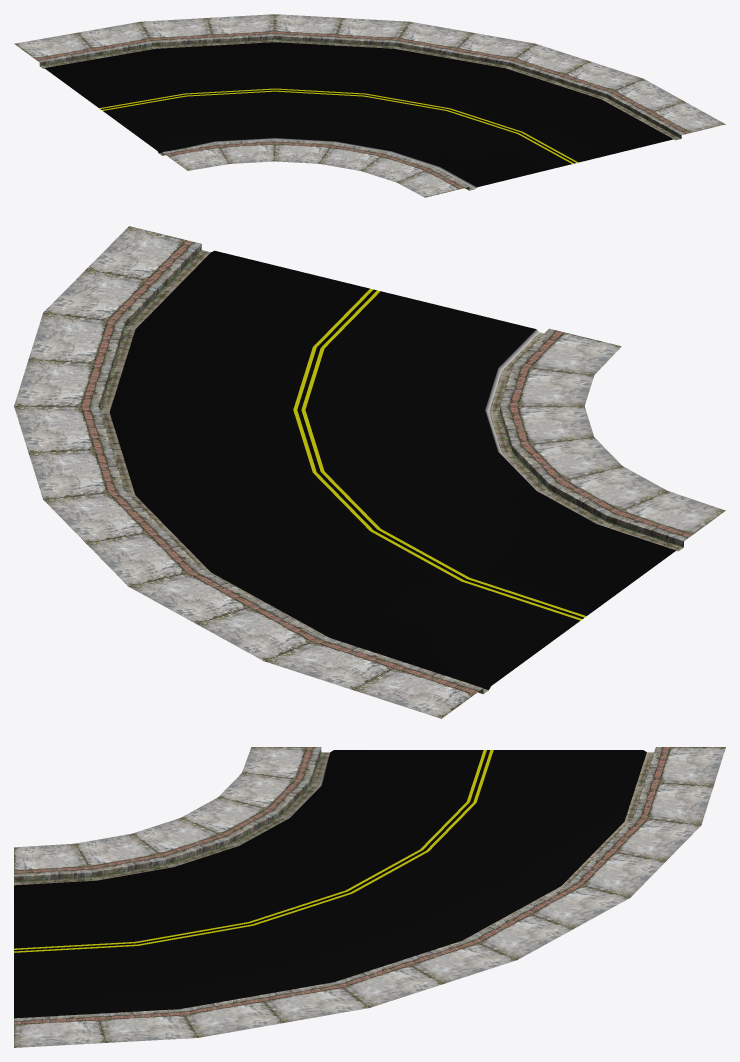
Rendered from Road-Double_L-SidewalksA.fbx.
3 views of the same model, one above another, from view 1: azimuth 30°, elevation 25°; view 2: azimuth 150°, elevation 25°; view 3: azimuth 270°, elevation 25° (orthographic). The views are drawn at different scales.
Parts seen in each view (by area): view 1: Road-Double_L-SidewalksA; view 2: Road-Double_L-SidewalksA; view 3: Road-Double_L-SidewalksA.
Part boxes in pixels (box(x1,y1,x2,y2)): Road-Double_L-SidewalksA: box(14, 14, 725, 197); Road-Double_L-SidewalksA: box(14, 226, 725, 718); Road-Double_L-SidewalksA: box(14, 747, 725, 1047).
Size of the model in its own units: 3150 by 25 by 3150.
